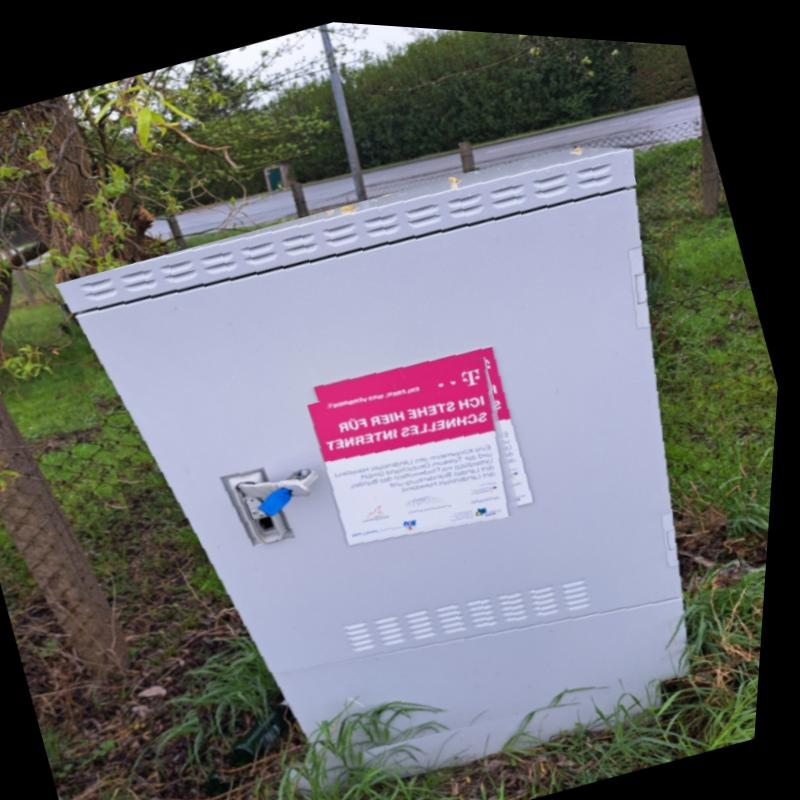NT-Gehause: (59, 134, 677, 761)
Steaker: (305, 340, 542, 564)
